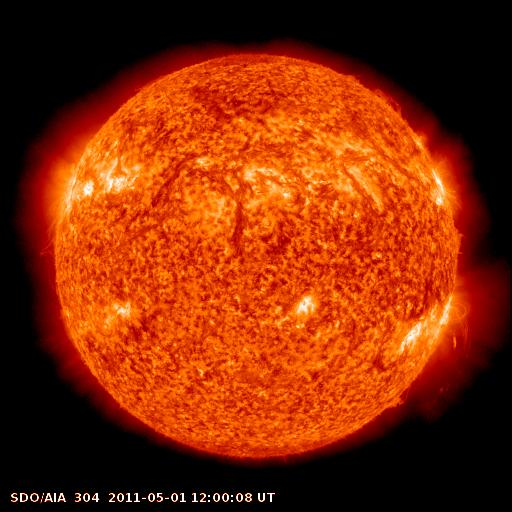prominence: (370, 81, 408, 121), (373, 384, 413, 414)
